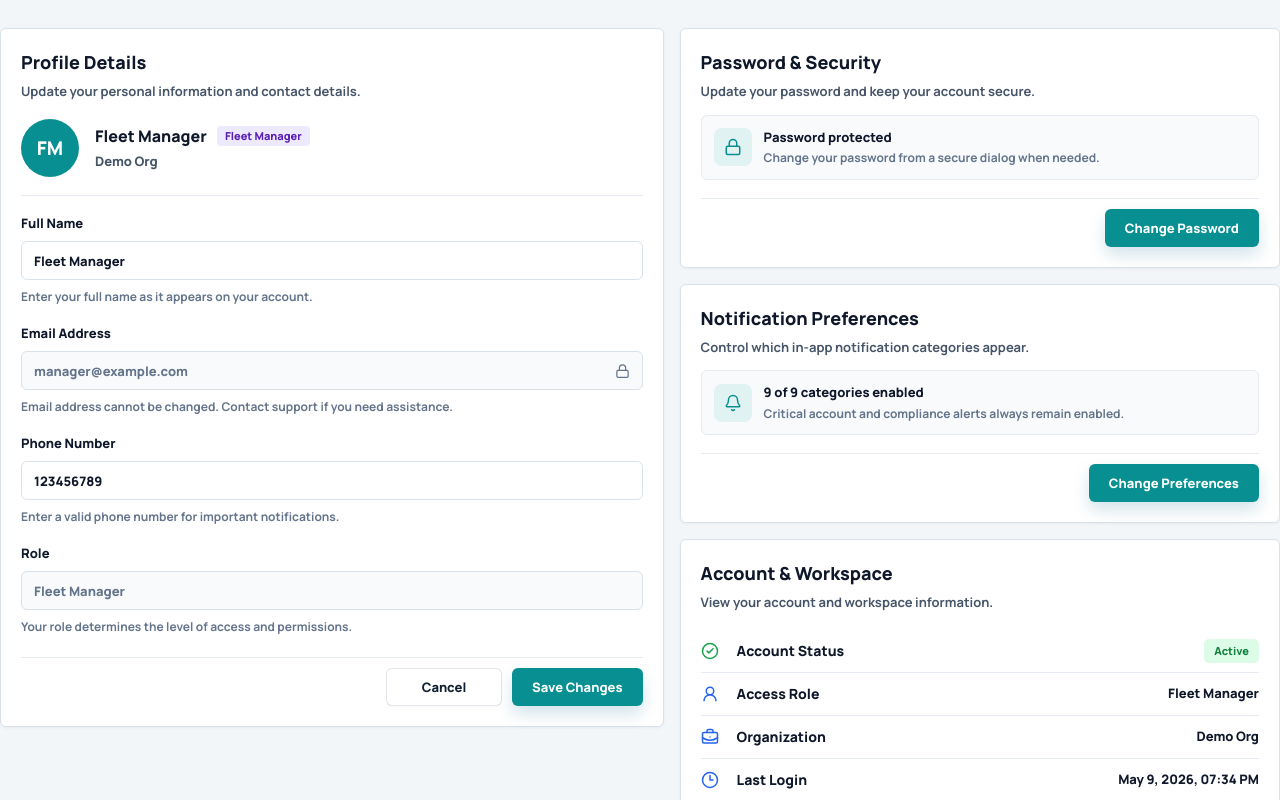
Test: ProfileSettings page › blocks weak or mismatched profile password changes
Click the button "Change Password": (1182,228) x1=1105 y1=208 x2=1259 y2=246
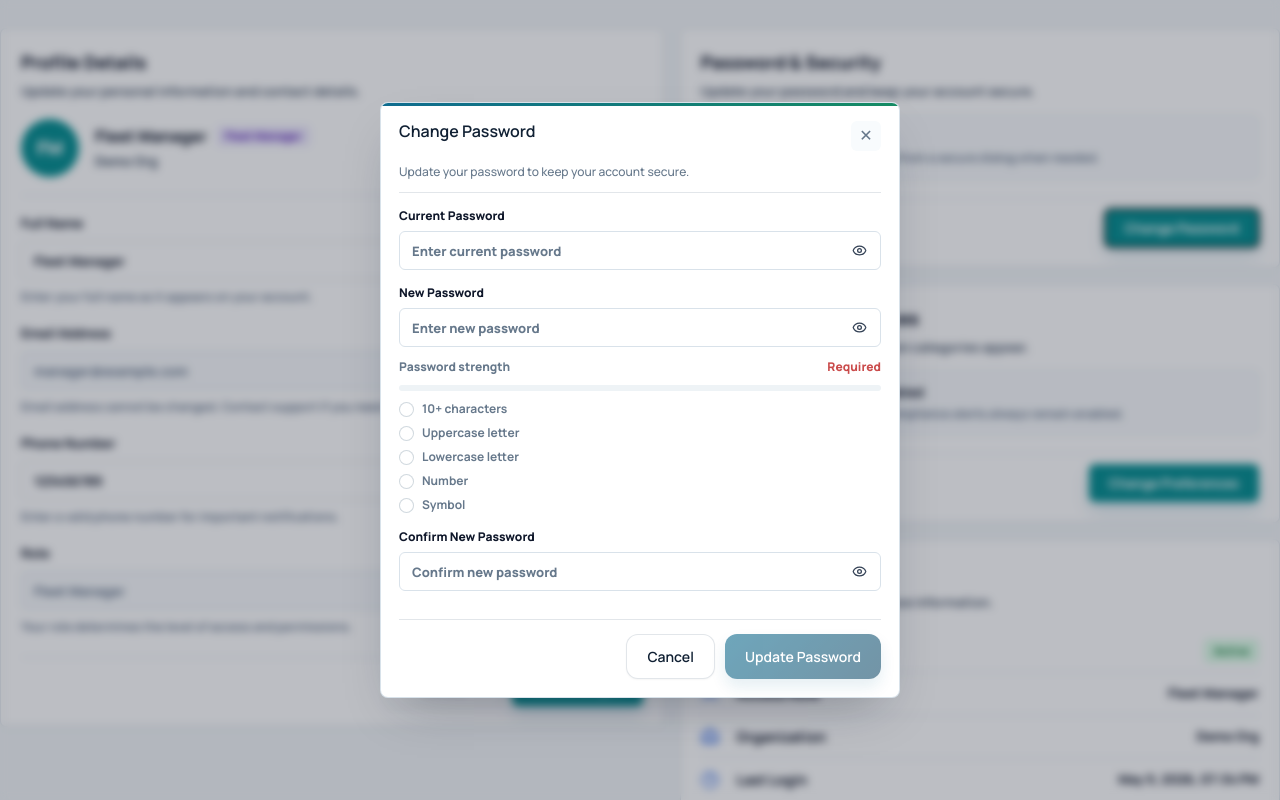
In the password field with placeholder "Enter current password": (640,251) x1=399 y1=231 x2=881 y2=270, type "OldPass1!"
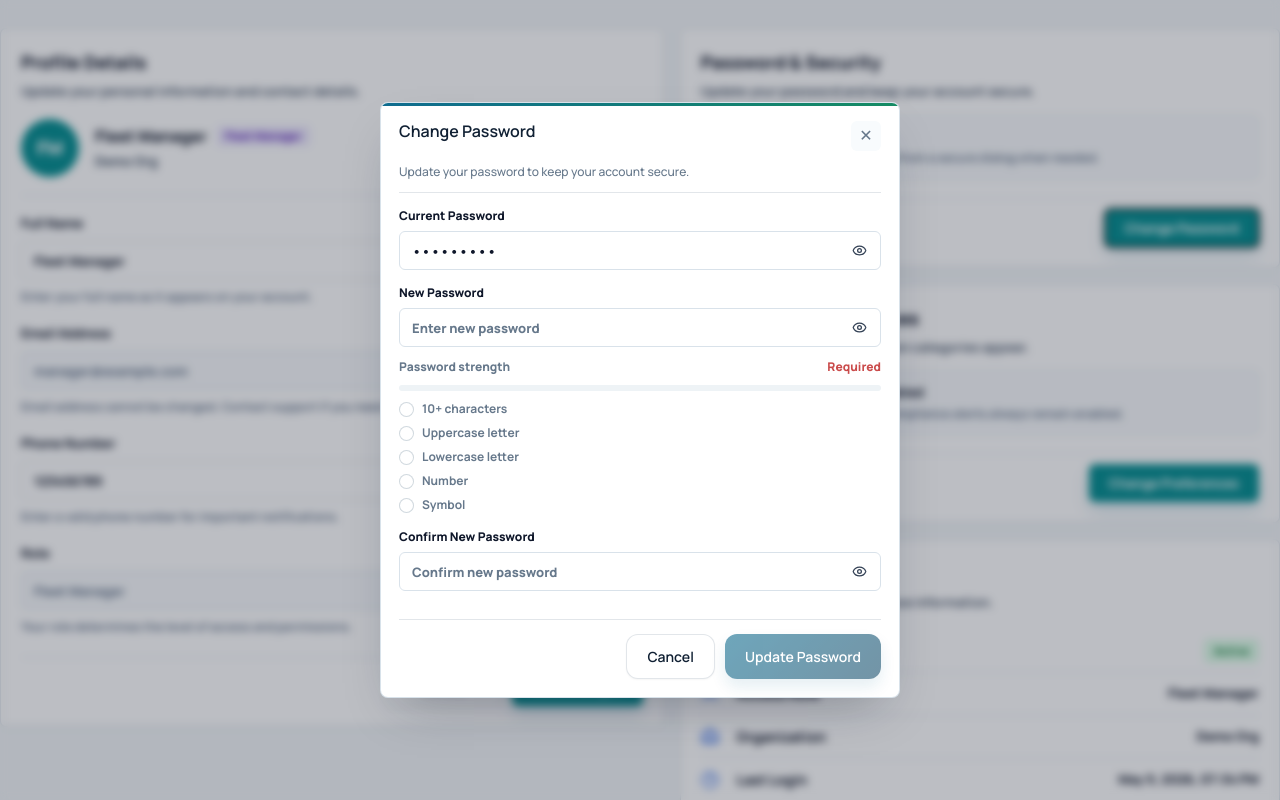
In the password field with placeholder "Enter new password": (640,328) x1=399 y1=308 x2=881 y2=347, type "weak"
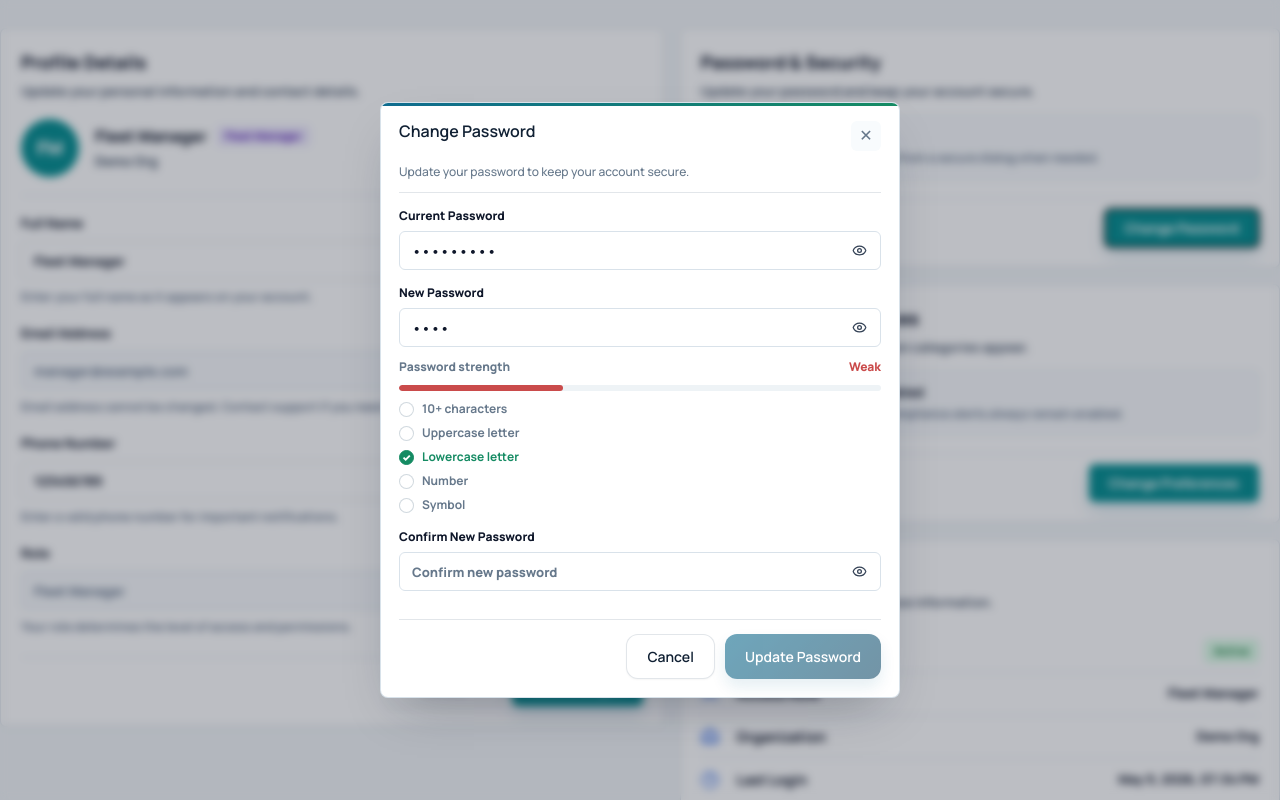
In the password field with placeholder "Confirm New Password": (640,572) x1=399 y1=552 x2=881 y2=591, type "different"
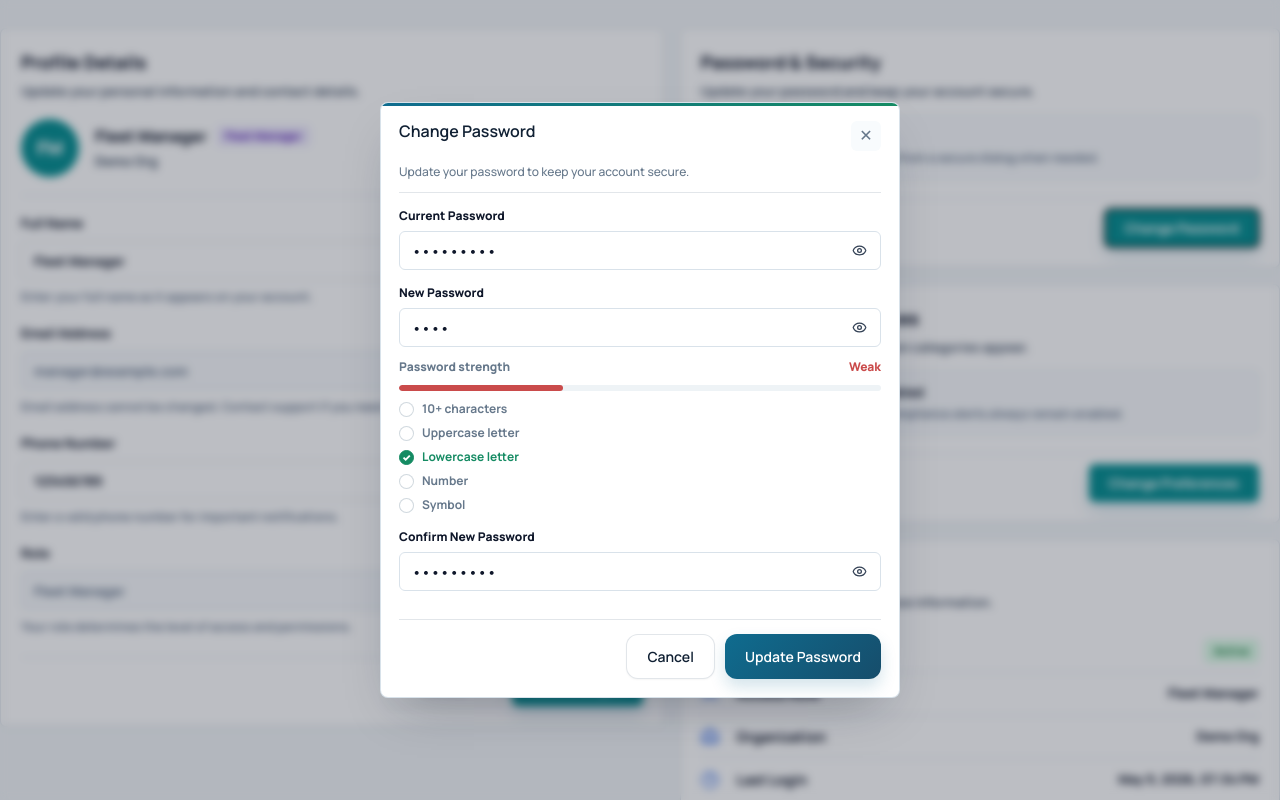
Click the button "Update Password": (803,657) x1=725 y1=634 x2=881 y2=679
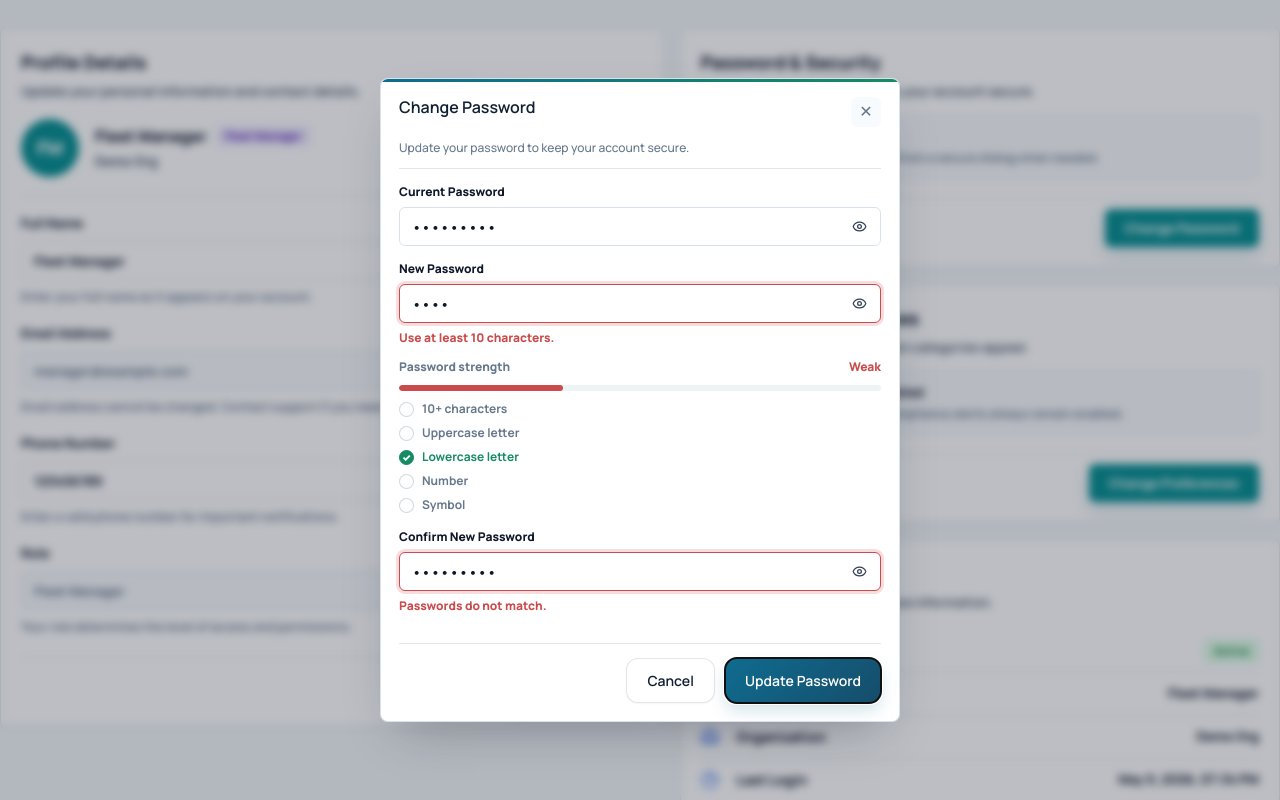
Expected: the text "Use at least 10 characters." is shown, x1=399 y1=329 x2=554 y2=346
Expected: the text "Passwords do not match." is shown, x1=399 y1=597 x2=546 y2=614
